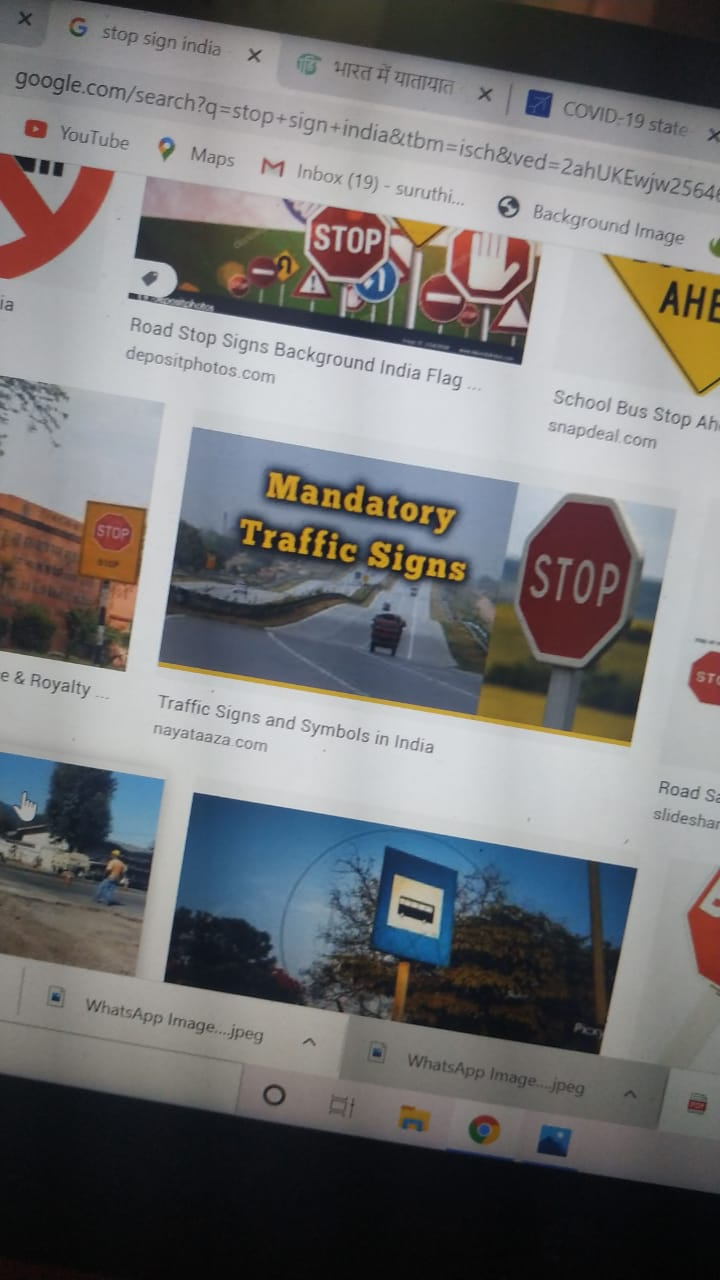STOP: (506, 441, 643, 711), (294, 191, 394, 283), (677, 830, 720, 990), (90, 510, 136, 558), (693, 627, 720, 706)
